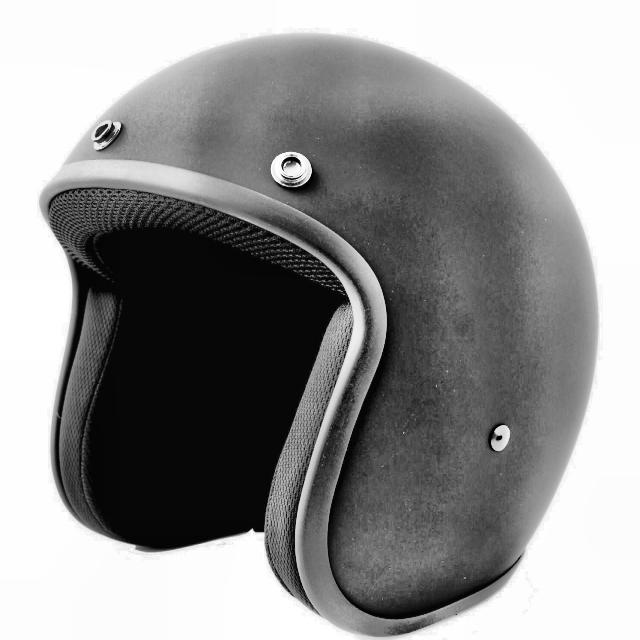Helmet: (29, 32, 601, 640)
